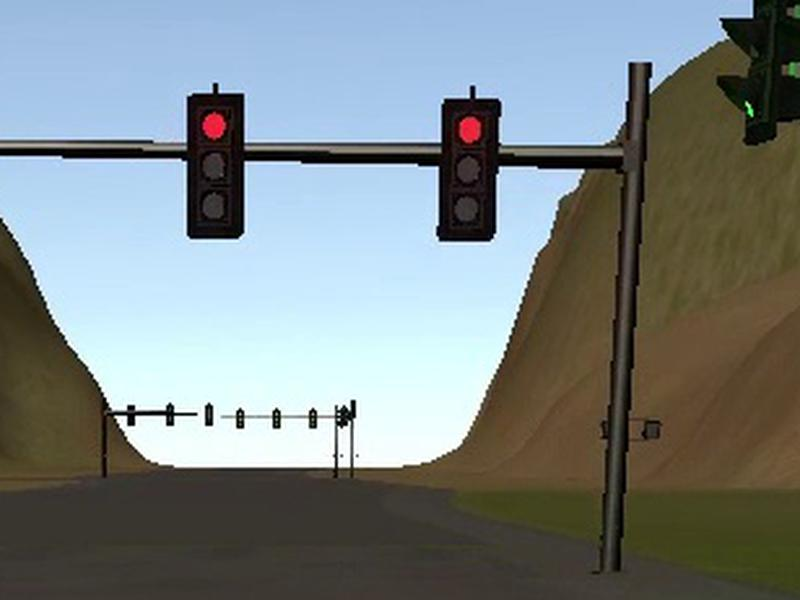Red: (439, 100, 499, 240), (187, 94, 243, 236)
